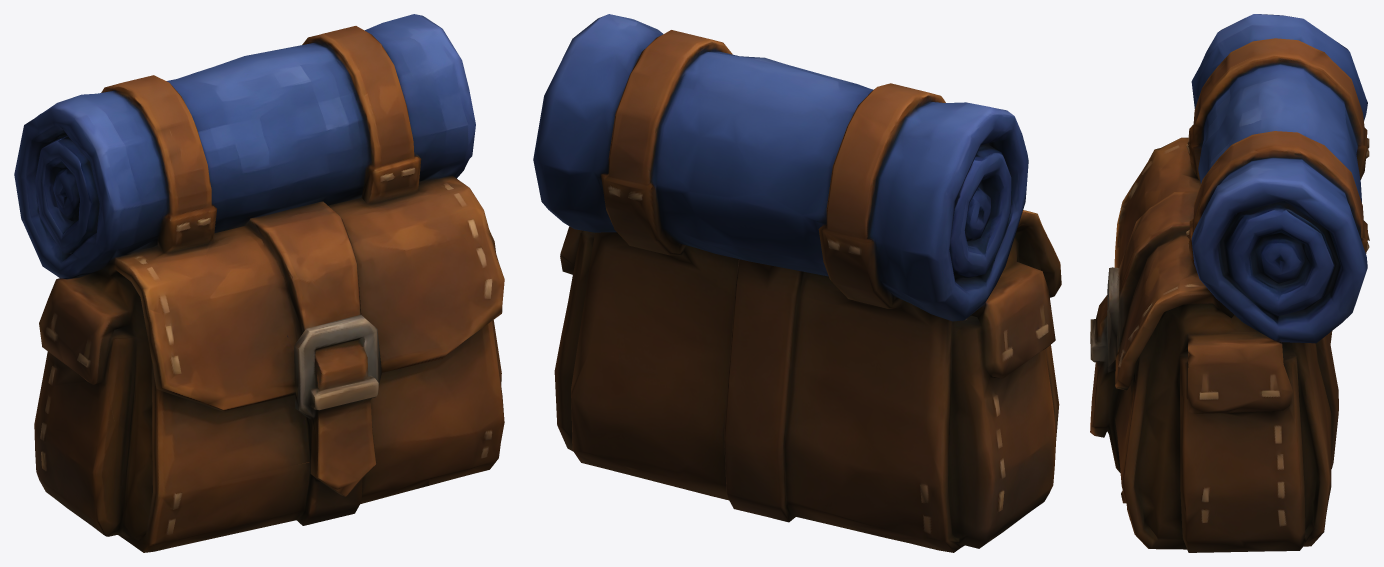
Rendered from vestibule-travel-kit.glb.
3 views of the same model, side by side, from view 1: azimuth 30°, elevation 25°; view 2: azimuth 150°, elevation 25°; view 3: azimuth 270°, elevation 25° (orthographic). The views are drawn at different scales.
Visible parts, largest first — view 1: vestibule-travel-kit; view 2: vestibule-travel-kit; view 3: vestibule-travel-kit.
Part boxes in pixels (x1,y1,x2,y2): vestibule-travel-kit: [14, 14, 504, 552]; vestibule-travel-kit: [533, 14, 1061, 552]; vestibule-travel-kit: [1090, 14, 1369, 552].
Size of the model in its own units: 0.48 by 0.45 by 0.3.
Materials: 1 (1 with a texture image).
